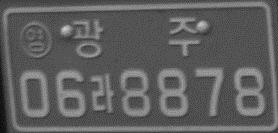0: (18, 69, 51, 119)
6: (55, 68, 86, 119)
7: (194, 67, 224, 117)
8: (232, 67, 266, 117), (119, 68, 151, 117), (156, 68, 188, 117)
광주_D: (72, 17, 202, 60)
라: (88, 72, 115, 114)
영: (18, 21, 52, 58)
